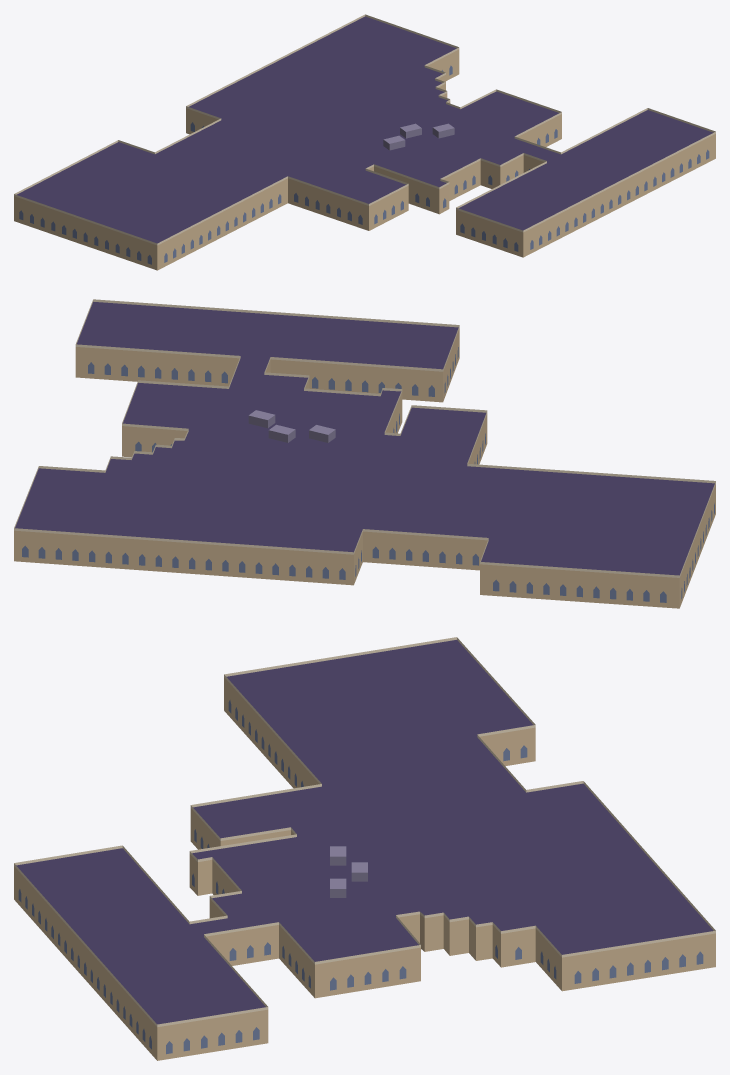
Rendered from b-050-elborn-college-day.glb.
3 views of the same model, one above another, from view 1: azimuth 30°, elevation 25°; view 2: azimuth 150°, elevation 25°; view 3: azimuth 270°, elevation 25° (orthographic). The views are drawn at different scales.
Parts seen in each view (by area): view 1: campus/b-050-elborn-college-day-0; view 2: campus/b-050-elborn-college-day-0; view 3: campus/b-050-elborn-college-day-0.
Boxes of the visible parts, left/top/right/bottom form: campus/b-050-elborn-college-day-0: left=14, top=14, right=715, bottom=270; campus/b-050-elborn-college-day-0: left=14, top=299, right=715, bottom=608; campus/b-050-elborn-college-day-0: left=14, top=637, right=715, bottom=1060.
Bounding box in the file's own units: 168 × 8.6 × 128.
